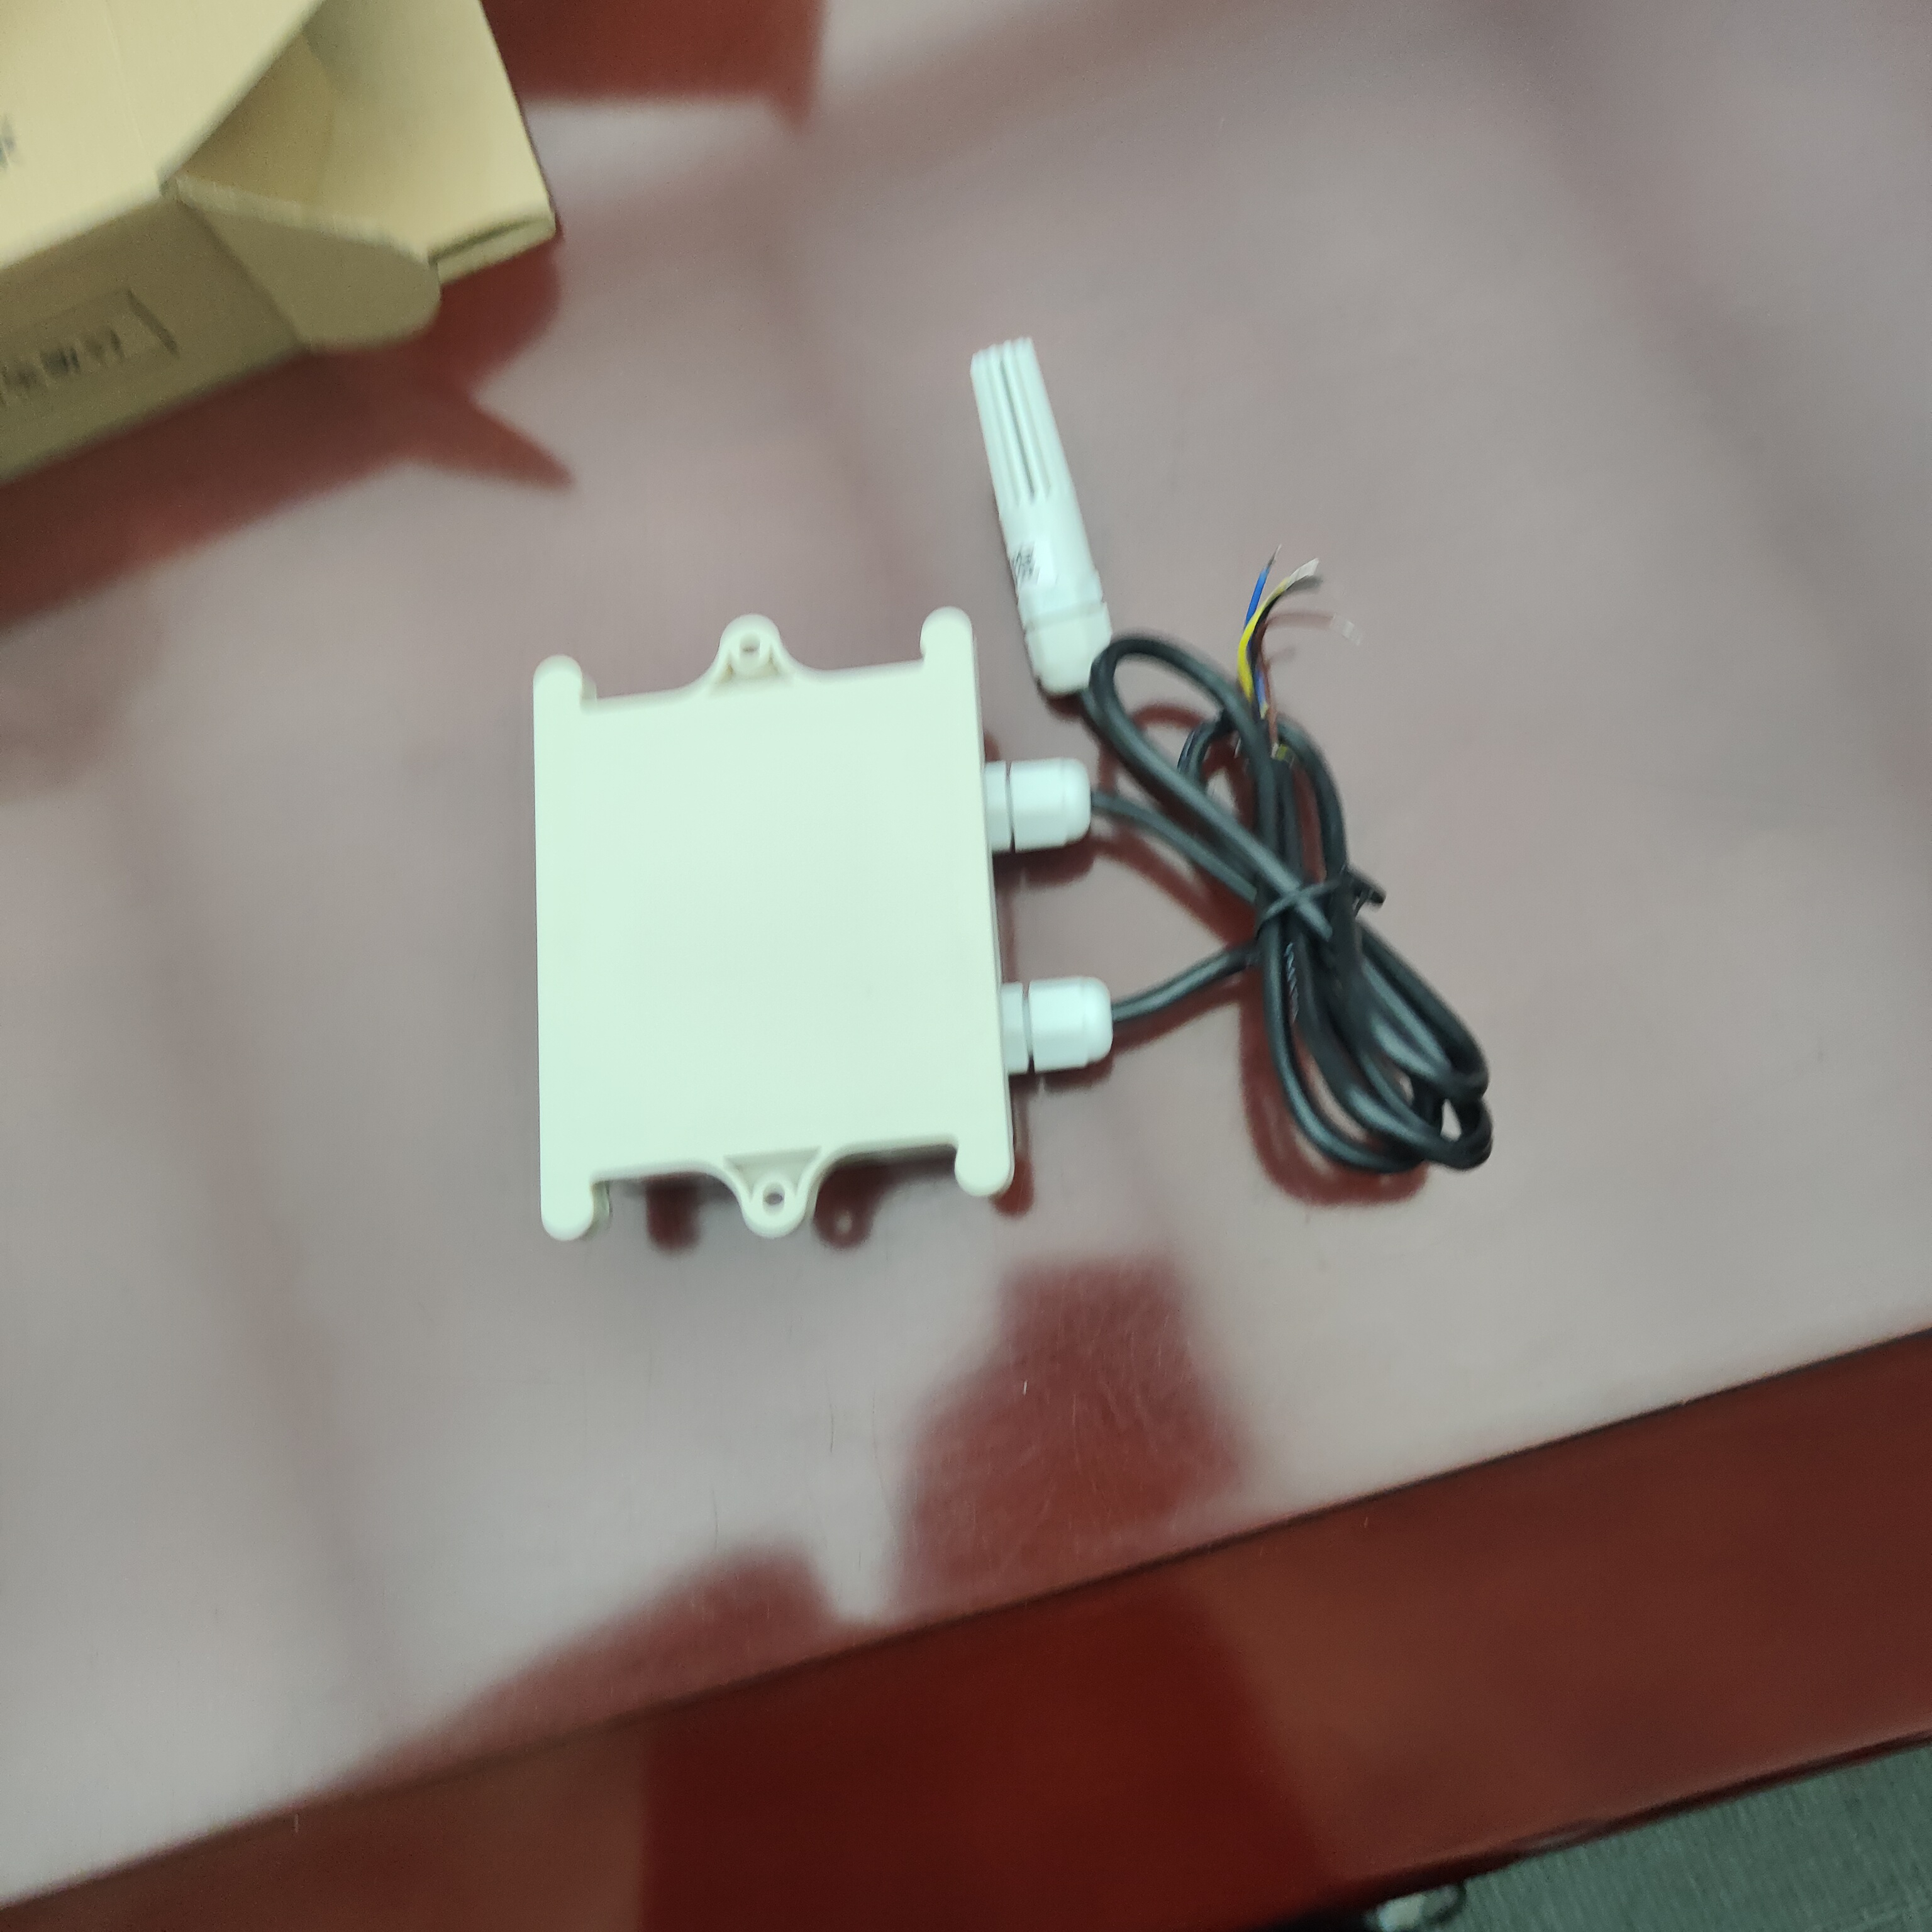wsdbsq: (485, 596, 1138, 1261)
